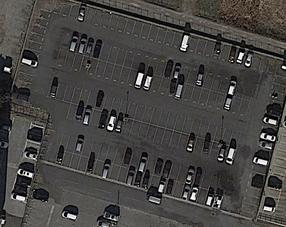parkingspot: (50, 0, 281, 78), (59, 30, 256, 103), (54, 48, 253, 120), (46, 79, 244, 149), (66, 102, 239, 168), (58, 132, 230, 196), (54, 150, 226, 212), (239, 75, 286, 221), (9, 6, 53, 106), (258, 103, 286, 224), (10, 123, 46, 206)
